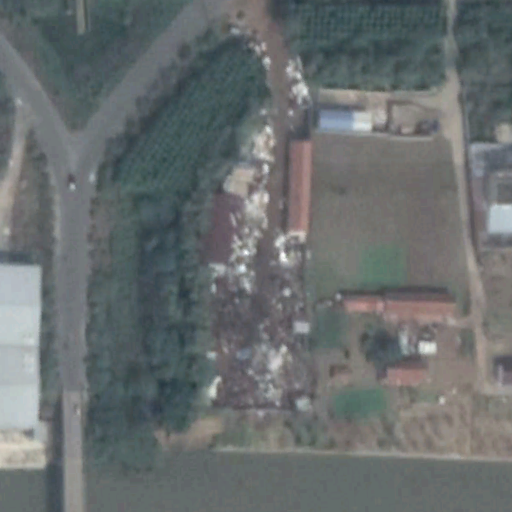msw: (214, 38, 315, 408)
